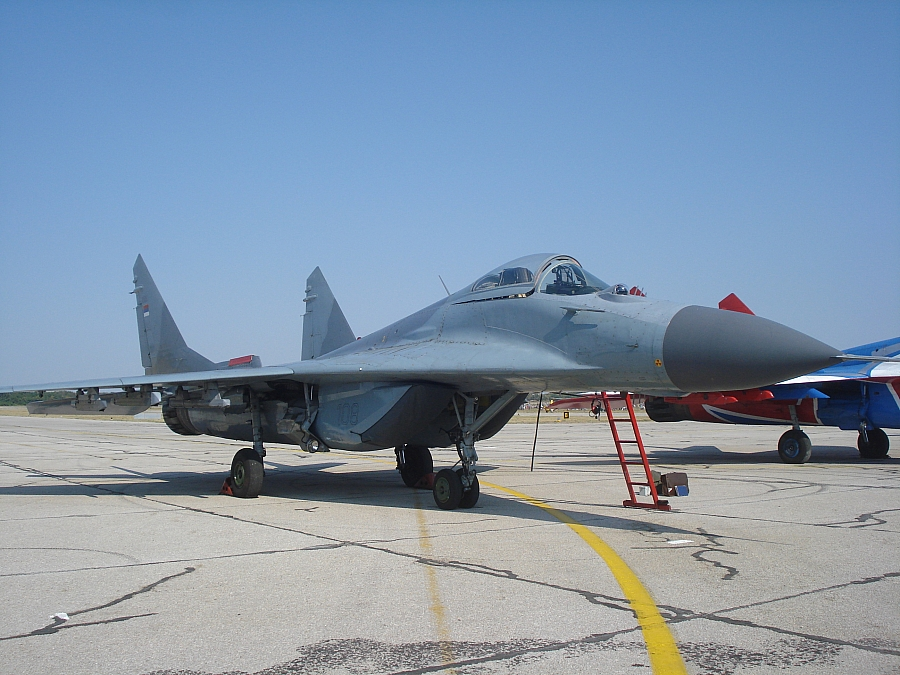Mig-29: (61, 209, 868, 511)
